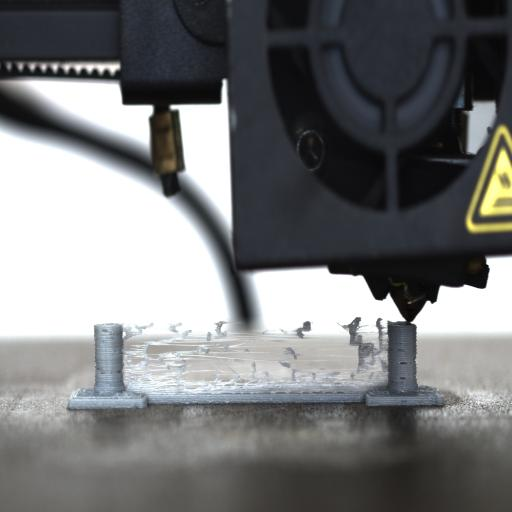stringing: (122, 322, 390, 388)
